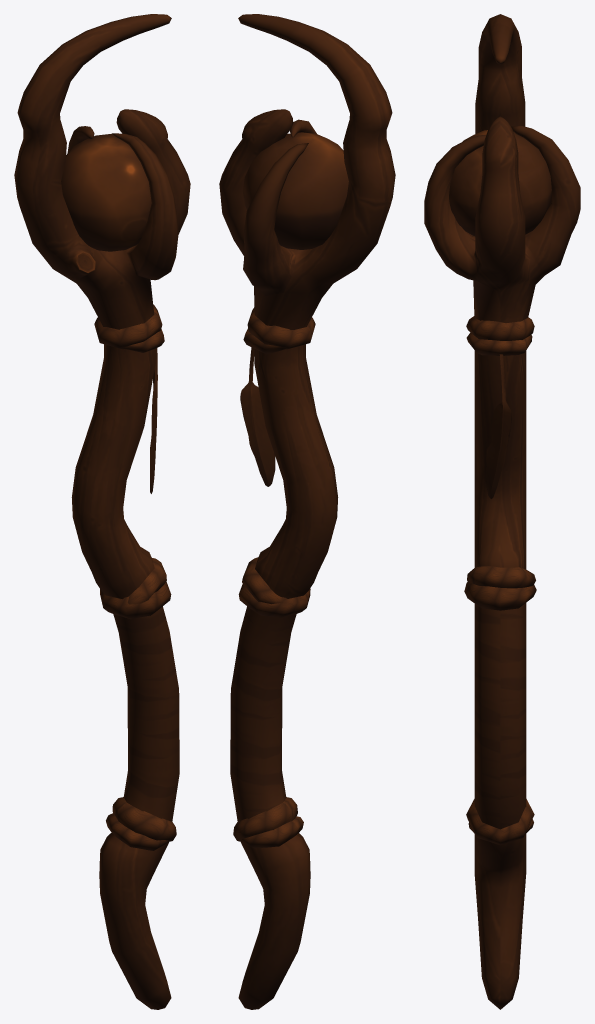
Rendered from rpg_weapon_wand.glb.
The picture shows the model from 3 angles, left to right: view 1: azimuth 30°, elevation 25°; view 2: azimuth 150°, elevation 25°; view 3: azimuth 270°, elevation 25°; orthographic projection. The views are drawn at different scales.
Parts seen in each view (by area): view 1: rpg_weapon_wand; view 2: rpg_weapon_wand; view 3: rpg_weapon_wand.
Boxes of the visible parts, x1=… form: rpg_weapon_wand: x1=14, y1=14, x2=190, y2=1009; rpg_weapon_wand: x1=219, y1=14, x2=395, y2=1009; rpg_weapon_wand: x1=424, y1=14, x2=580, y2=1009.
Bounding box in the file's own units: 0.1765 × 0.9849 × 0.1455.
Materials: 1 (1 with a texture image).
